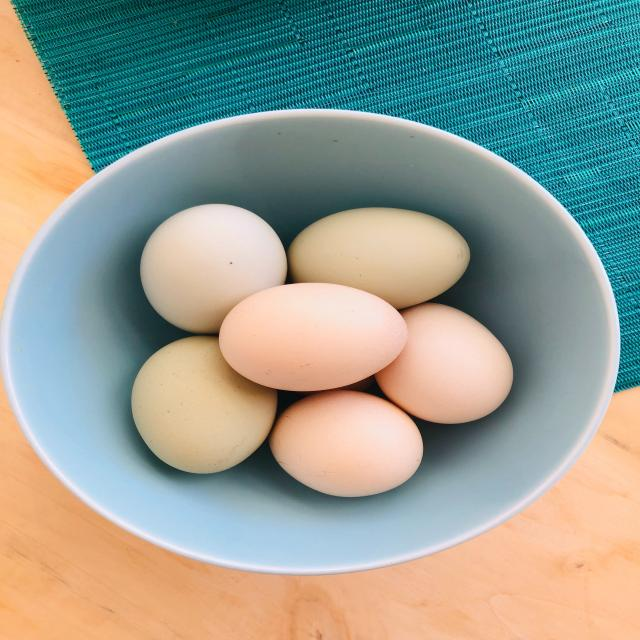egg: (102, 324, 306, 489), (213, 268, 422, 399), (248, 367, 444, 505), (136, 194, 314, 340), (354, 286, 536, 426), (280, 202, 491, 318)
